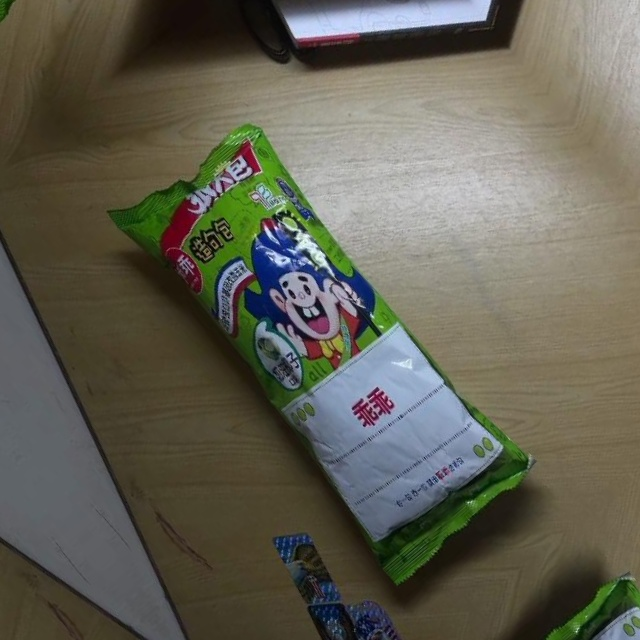Good-Luck: (89, 102, 543, 591)
